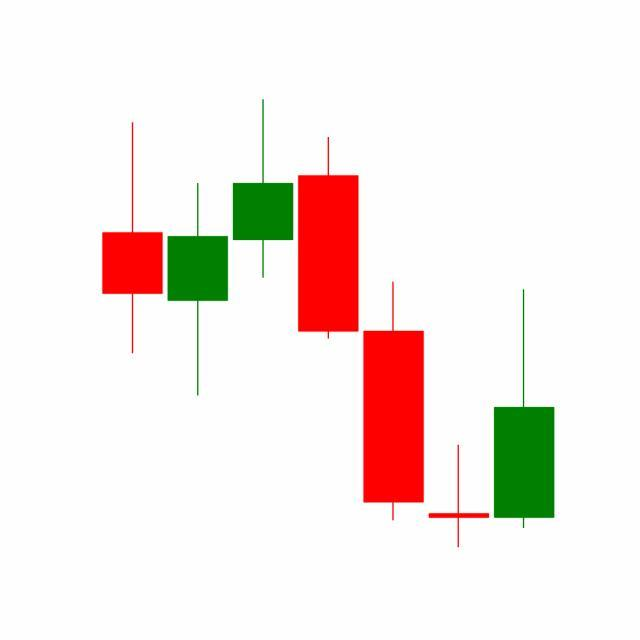Morning Doji Star: (360, 278, 556, 548)
